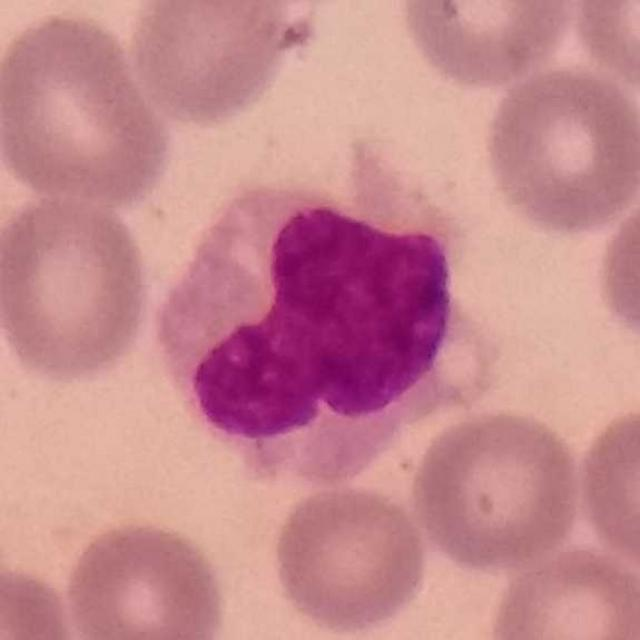Monocyte: (159, 186, 487, 486)
